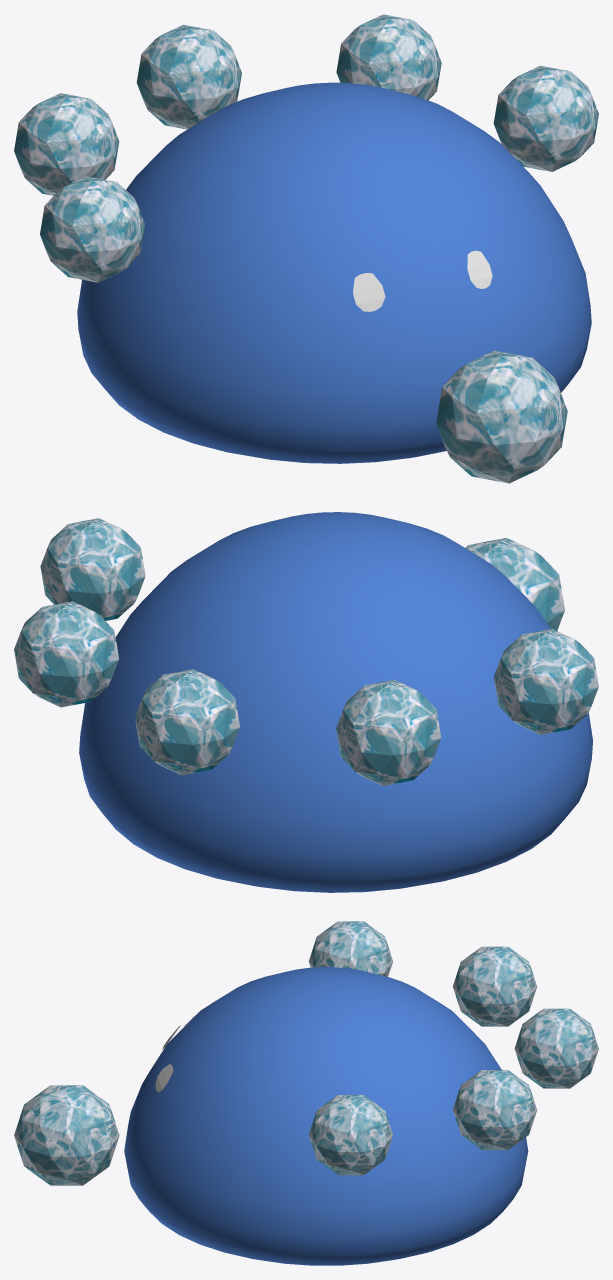
The model's file is AllyHeavy.fbx.
3 renders of one model, top to bottom at view 1: azimuth 30°, elevation 25°; view 2: azimuth 150°, elevation 25°; view 3: azimuth 270°, elevation 25°, orthographic. The views are drawn at different scales.
Parts seen in each view (by area): view 1: Sphere.025, Icosphere.005, Icosphere, Icosphere.003, Icosphere.002, Icosphere.001, Icosphere.004, Plane.022, Plane.023; view 2: Sphere.025, Icosphere.002, Icosphere, Icosphere.004, Icosphere.001, Icosphere.003, Icosphere.005; view 3: Sphere.025, Icosphere.005, Icosphere.003, Icosphere.001, Icosphere.002, Icosphere.004, Icosphere.
Boxes of the visible parts, bbox=[...] form: Sphere.025: bbox=[77, 82, 591, 463]; Icosphere.005: bbox=[436, 350, 567, 483]; Icosphere: bbox=[40, 176, 144, 282]; Icosphere.003: bbox=[493, 65, 598, 171]; Icosphere.002: bbox=[136, 24, 241, 129]; Icosphere.001: bbox=[14, 93, 119, 195]; Icosphere.004: bbox=[336, 14, 441, 100]; Plane.022: bbox=[353, 273, 385, 311]; Plane.023: bbox=[467, 250, 492, 288]; Sphere.025: bbox=[79, 512, 592, 892]; Icosphere.002: bbox=[135, 669, 239, 775]; Icosphere: bbox=[493, 629, 598, 734]; Icosphere.004: bbox=[14, 601, 118, 707]; Icosphere.001: bbox=[336, 680, 441, 785]; Icosphere.003: bbox=[40, 518, 145, 620]; Icosphere.005: bbox=[465, 537, 564, 630]; Sphere.025: bbox=[124, 967, 528, 1265]; Icosphere.005: bbox=[14, 1085, 119, 1185]; Icosphere.003: bbox=[309, 1095, 392, 1175]; Icosphere.001: bbox=[452, 946, 537, 1026]; Icosphere.002: bbox=[514, 1008, 598, 1088]; Icosphere.004: bbox=[453, 1070, 536, 1150]; Icosphere: bbox=[308, 921, 392, 976].
Bounding box in the file's own units: 267 × 127 × 318.
Materials: 6 (1 with a texture image).
